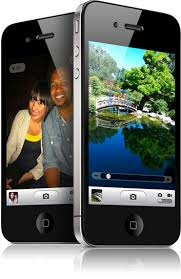iphone: (73, 1, 179, 249)
iphone4: (72, 1, 178, 249)
